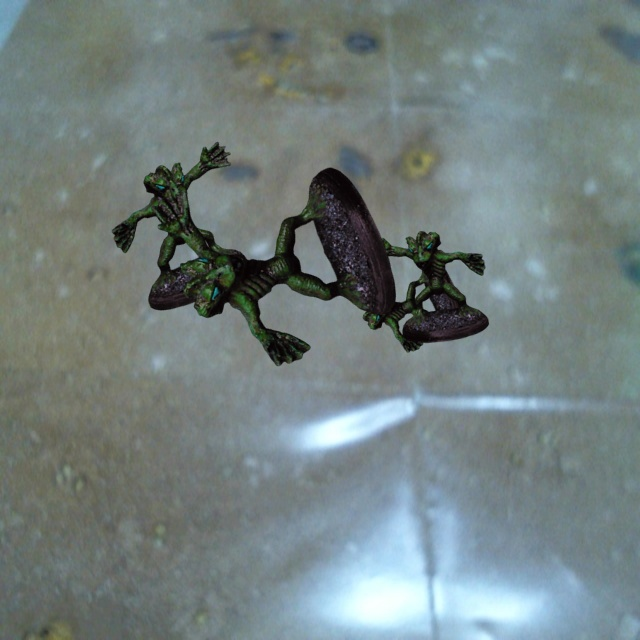pieza_juego: (151, 167, 395, 365), (112, 142, 247, 310), (367, 231, 488, 342), (347, 258, 463, 352)
